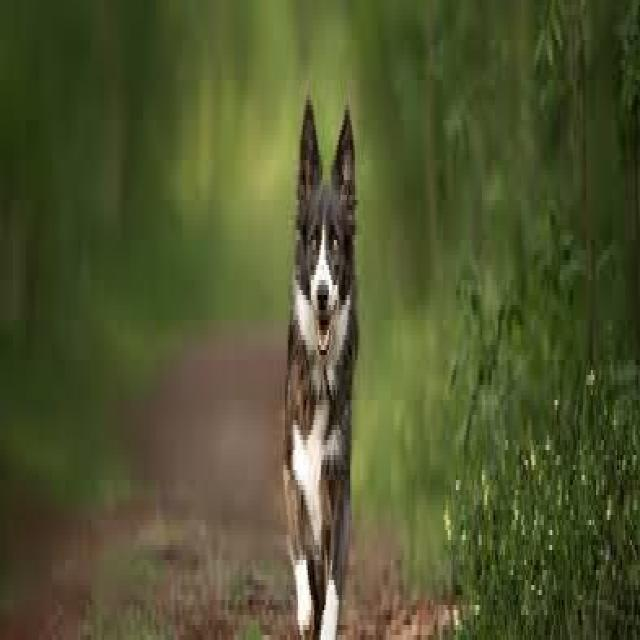ALASKAN_MALAMUTE: (272, 60, 366, 640)
